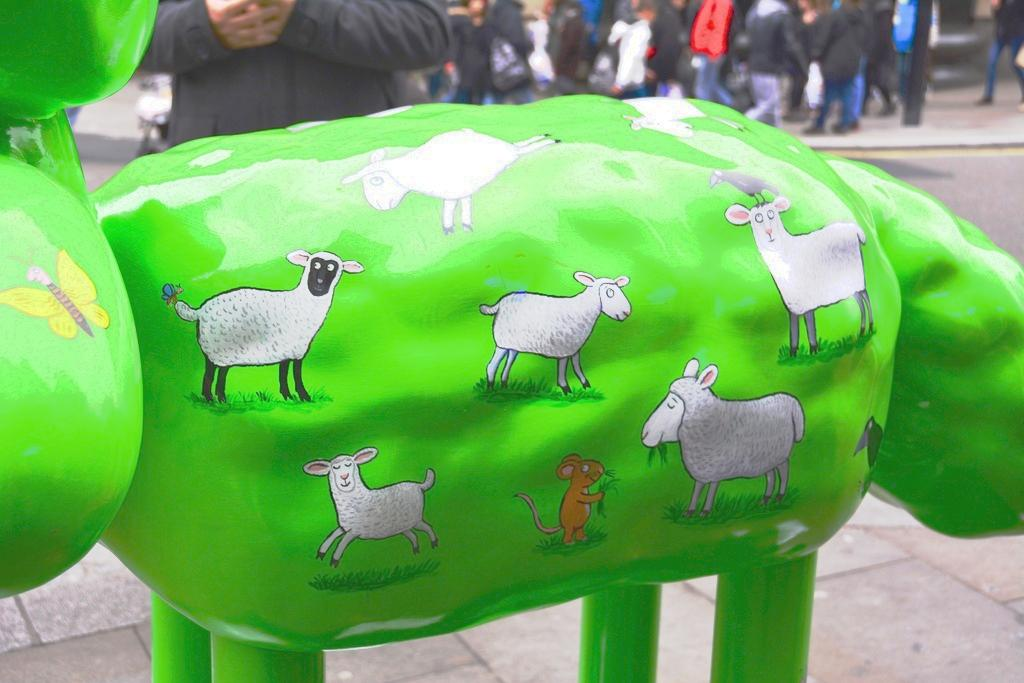Sheep: (158, 237, 370, 424), (343, 118, 584, 253), (639, 356, 812, 530), (722, 197, 874, 357), (478, 268, 632, 394), (302, 450, 436, 564)
